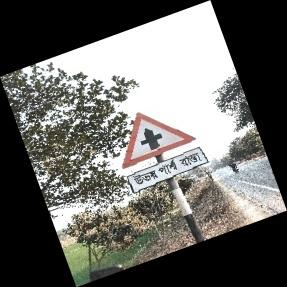Crossroad: (122, 112, 211, 193)
